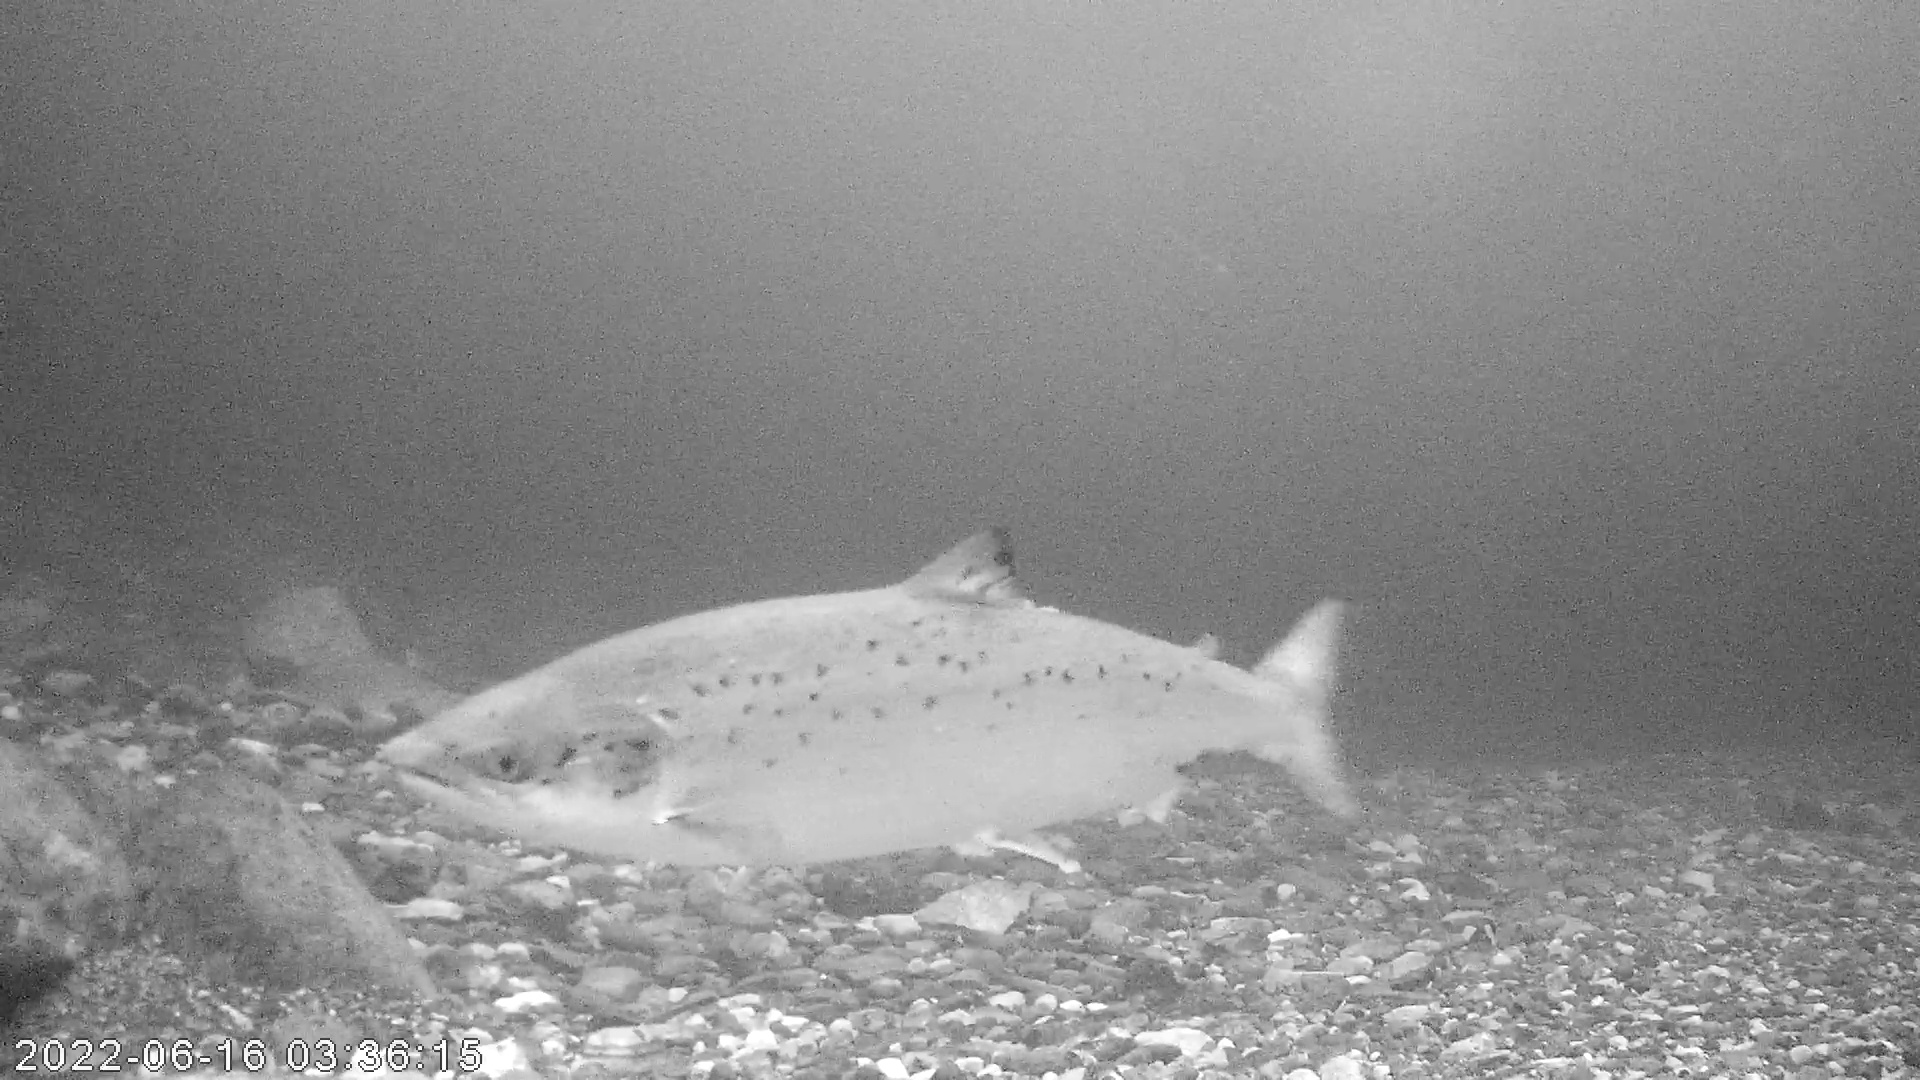salmon: (376, 524, 1357, 874)
